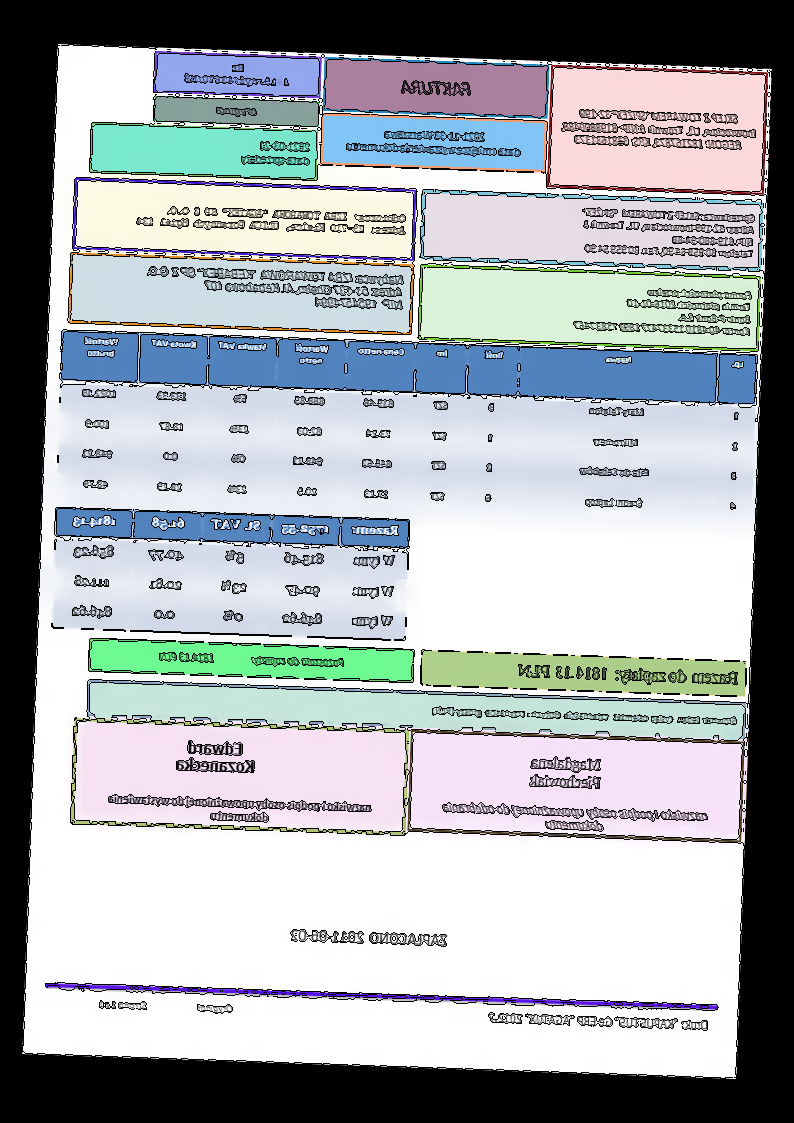Table: (54, 328, 761, 529), (49, 508, 412, 643)
TextBox: (140, 259, 409, 314), (103, 788, 375, 830), (132, 200, 409, 241), (571, 281, 755, 342), (438, 798, 713, 837), (427, 697, 742, 731), (580, 204, 758, 262), (556, 105, 761, 155), (518, 658, 744, 690), (485, 1007, 714, 1038), (344, 122, 525, 159), (284, 921, 452, 955), (154, 645, 348, 673), (172, 732, 259, 779), (180, 58, 293, 93), (527, 752, 605, 794), (96, 994, 238, 1017), (239, 134, 315, 173), (400, 75, 475, 100), (213, 103, 260, 120)
